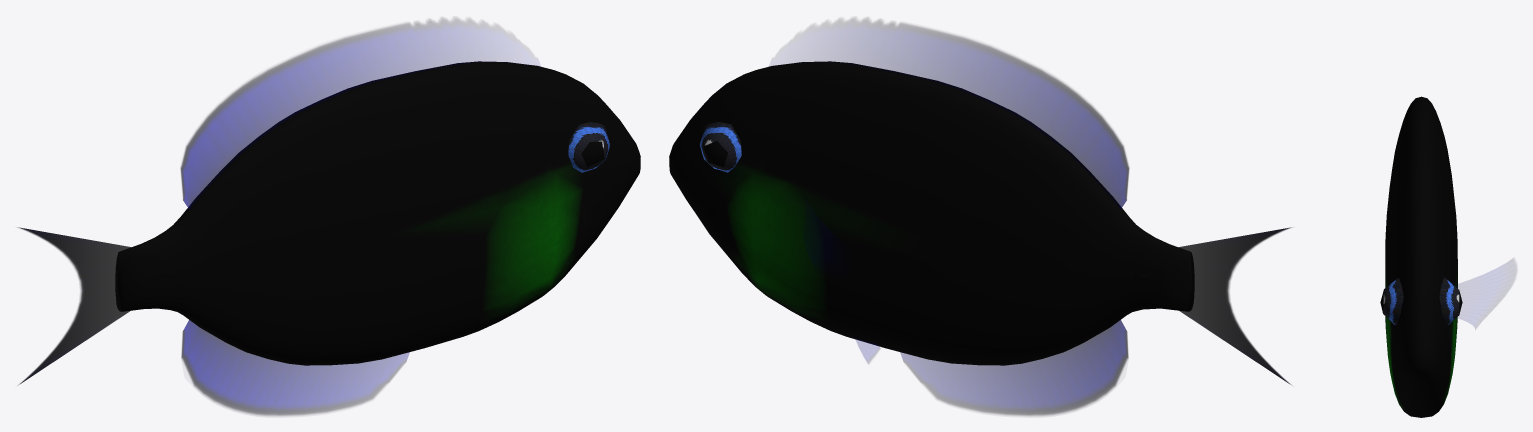
File: tang_lod1.glb
3 views of the same model, side by side, from view 1: azimuth 30°, elevation 25°; view 2: azimuth 150°, elevation 25°; view 3: azimuth 270°, elevation 25° (orthographic). The views are drawn at different scales.
Visible parts, largest first — view 1: Body, FinDorsal, FinAnal, FinCaudal, EyeR; view 2: Body, FinDorsal, FinAnal, FinCaudal, FinPectoralL, EyeL; view 3: Body, FinPectoralL, EyeL, EyeR.
Boxes of the visible parts, x1,y1,x2,y2 form: Body: (116, 61, 640, 365); FinDorsal: (180, 18, 532, 208); FinAnal: (181, 320, 409, 415); FinCaudal: (18, 227, 132, 384); EyeR: (568, 121, 610, 172); Body: (669, 61, 1193, 365); FinDorsal: (777, 18, 1129, 208); FinAnal: (900, 320, 1128, 415); FinCaudal: (1177, 227, 1291, 384); FinPectoralL: (804, 198, 851, 276); EyeL: (699, 121, 741, 172); Body: (1385, 96, 1457, 417); FinPectoralL: (1457, 258, 1516, 329); EyeL: (1439, 277, 1462, 325); EyeR: (1380, 278, 1403, 325).
Size of the model in its own units: 1 by 0.5727 by 0.2996.
4 materials, 3 textured.
